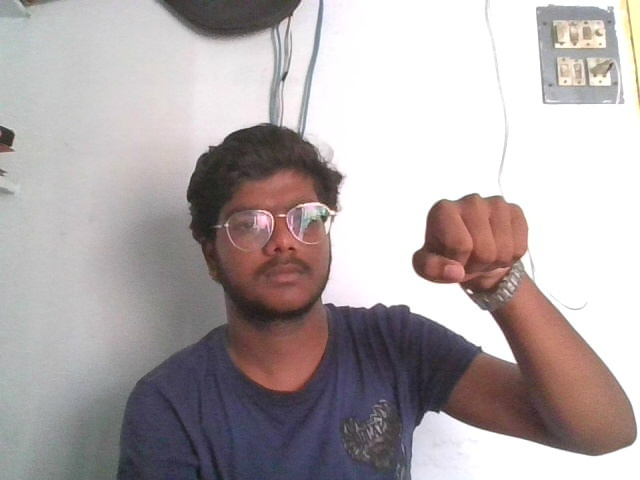Yes: (409, 186, 533, 287)
